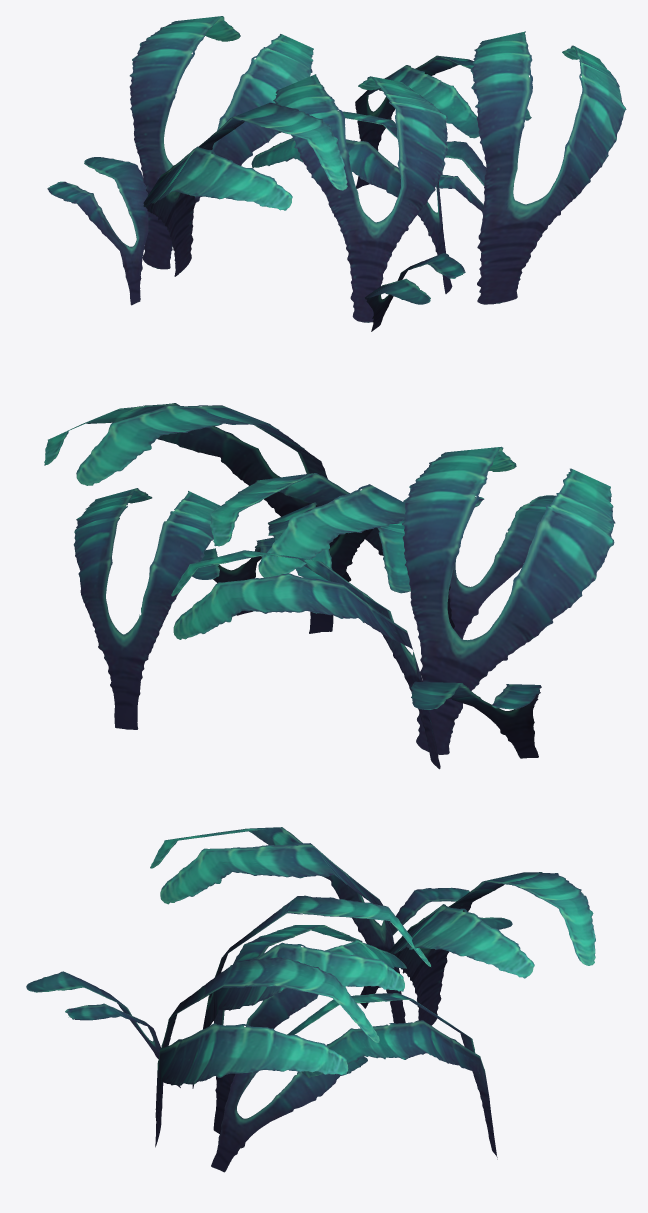
File: mossXenoforestFork.fbx
3 renders of one model, top to bottom at view 1: azimuth 30°, elevation 25°; view 2: azimuth 150°, elevation 25°; view 3: azimuth 270°, elevation 25°, orthographic. The views are drawn at different scales.
Parts seen in each view (by area): view 1: mossXenoforestFork; view 2: mossXenoforestFork; view 3: mossXenoforestFork.
Part boxes in pixels (<box>): mossXenoforestFork: <box>47,16,626,331</box>; mossXenoforestFork: <box>44,403,615,769</box>; mossXenoforestFork: <box>26,827,595,1172</box>.
Size of the model in its own units: 0.9943 by 0.3679 by 0.9319.
